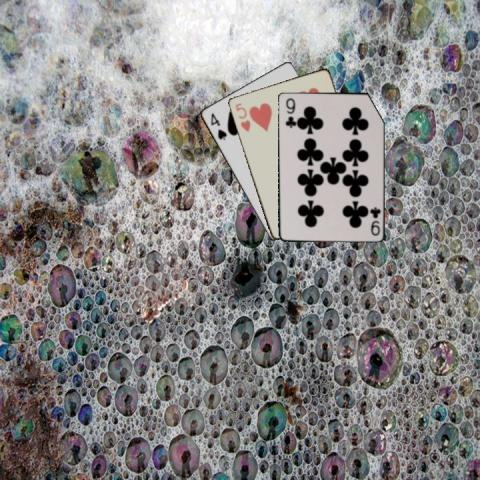4s: (207, 110, 228, 142)
5h: (232, 100, 251, 134)
9c: (367, 204, 381, 237), (283, 95, 294, 128)
